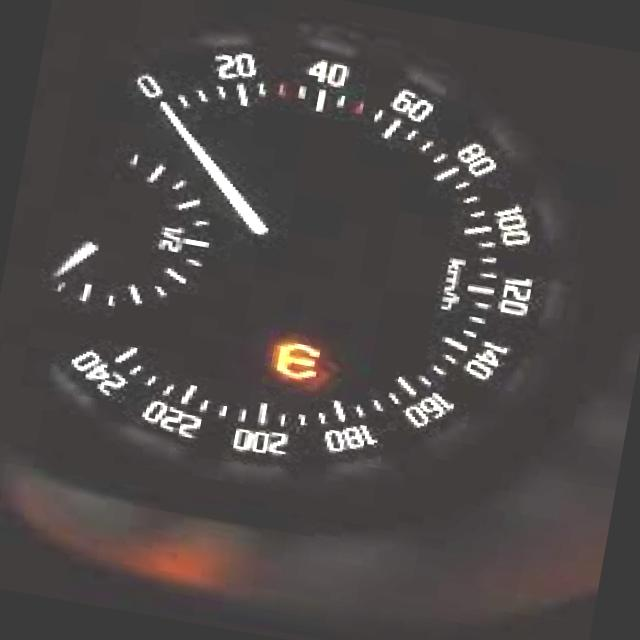kontrolka: (252, 330, 336, 394)
